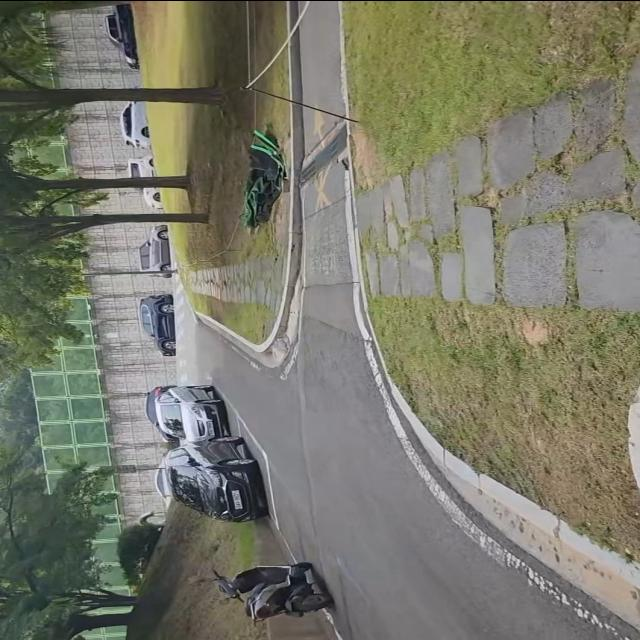obstacle: (147, 379, 278, 529), (181, 553, 355, 629)
road: (189, 310, 640, 640)
sidewalk: (355, 52, 640, 313), (187, 246, 296, 304)
